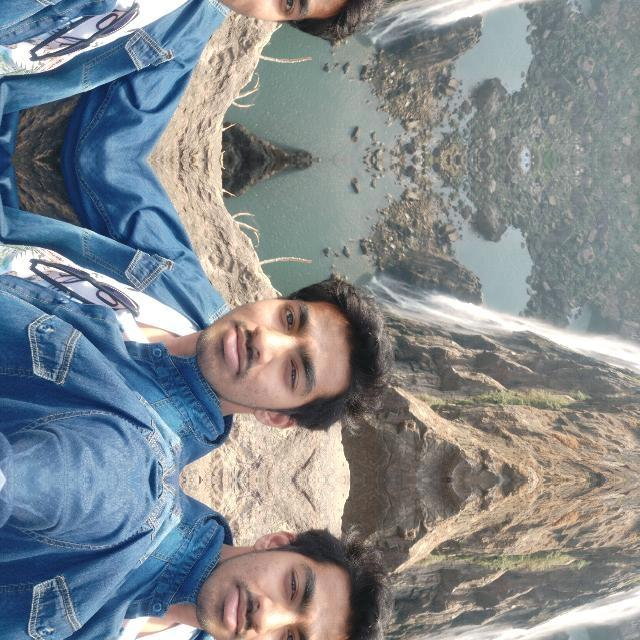person: (0, 159, 320, 556), (0, 403, 320, 640), (0, 0, 320, 160)
